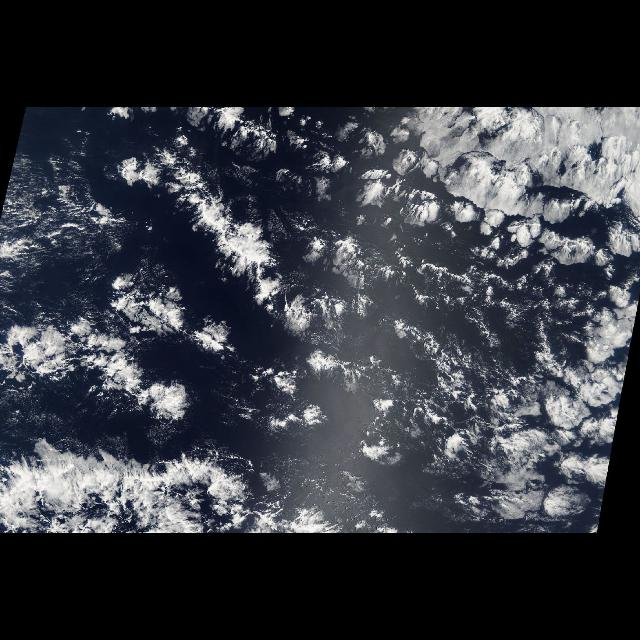Fish: (1, 422, 320, 534), (104, 140, 324, 274), (0, 307, 198, 421)
Flower: (278, 110, 640, 268), (438, 270, 640, 504), (0, 246, 232, 437)
Gravel: (412, 310, 568, 432)
Sugar: (352, 266, 494, 458), (0, 137, 126, 277)
